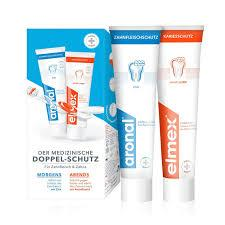toothpaste: (108, 23, 160, 204), (155, 20, 205, 203)
